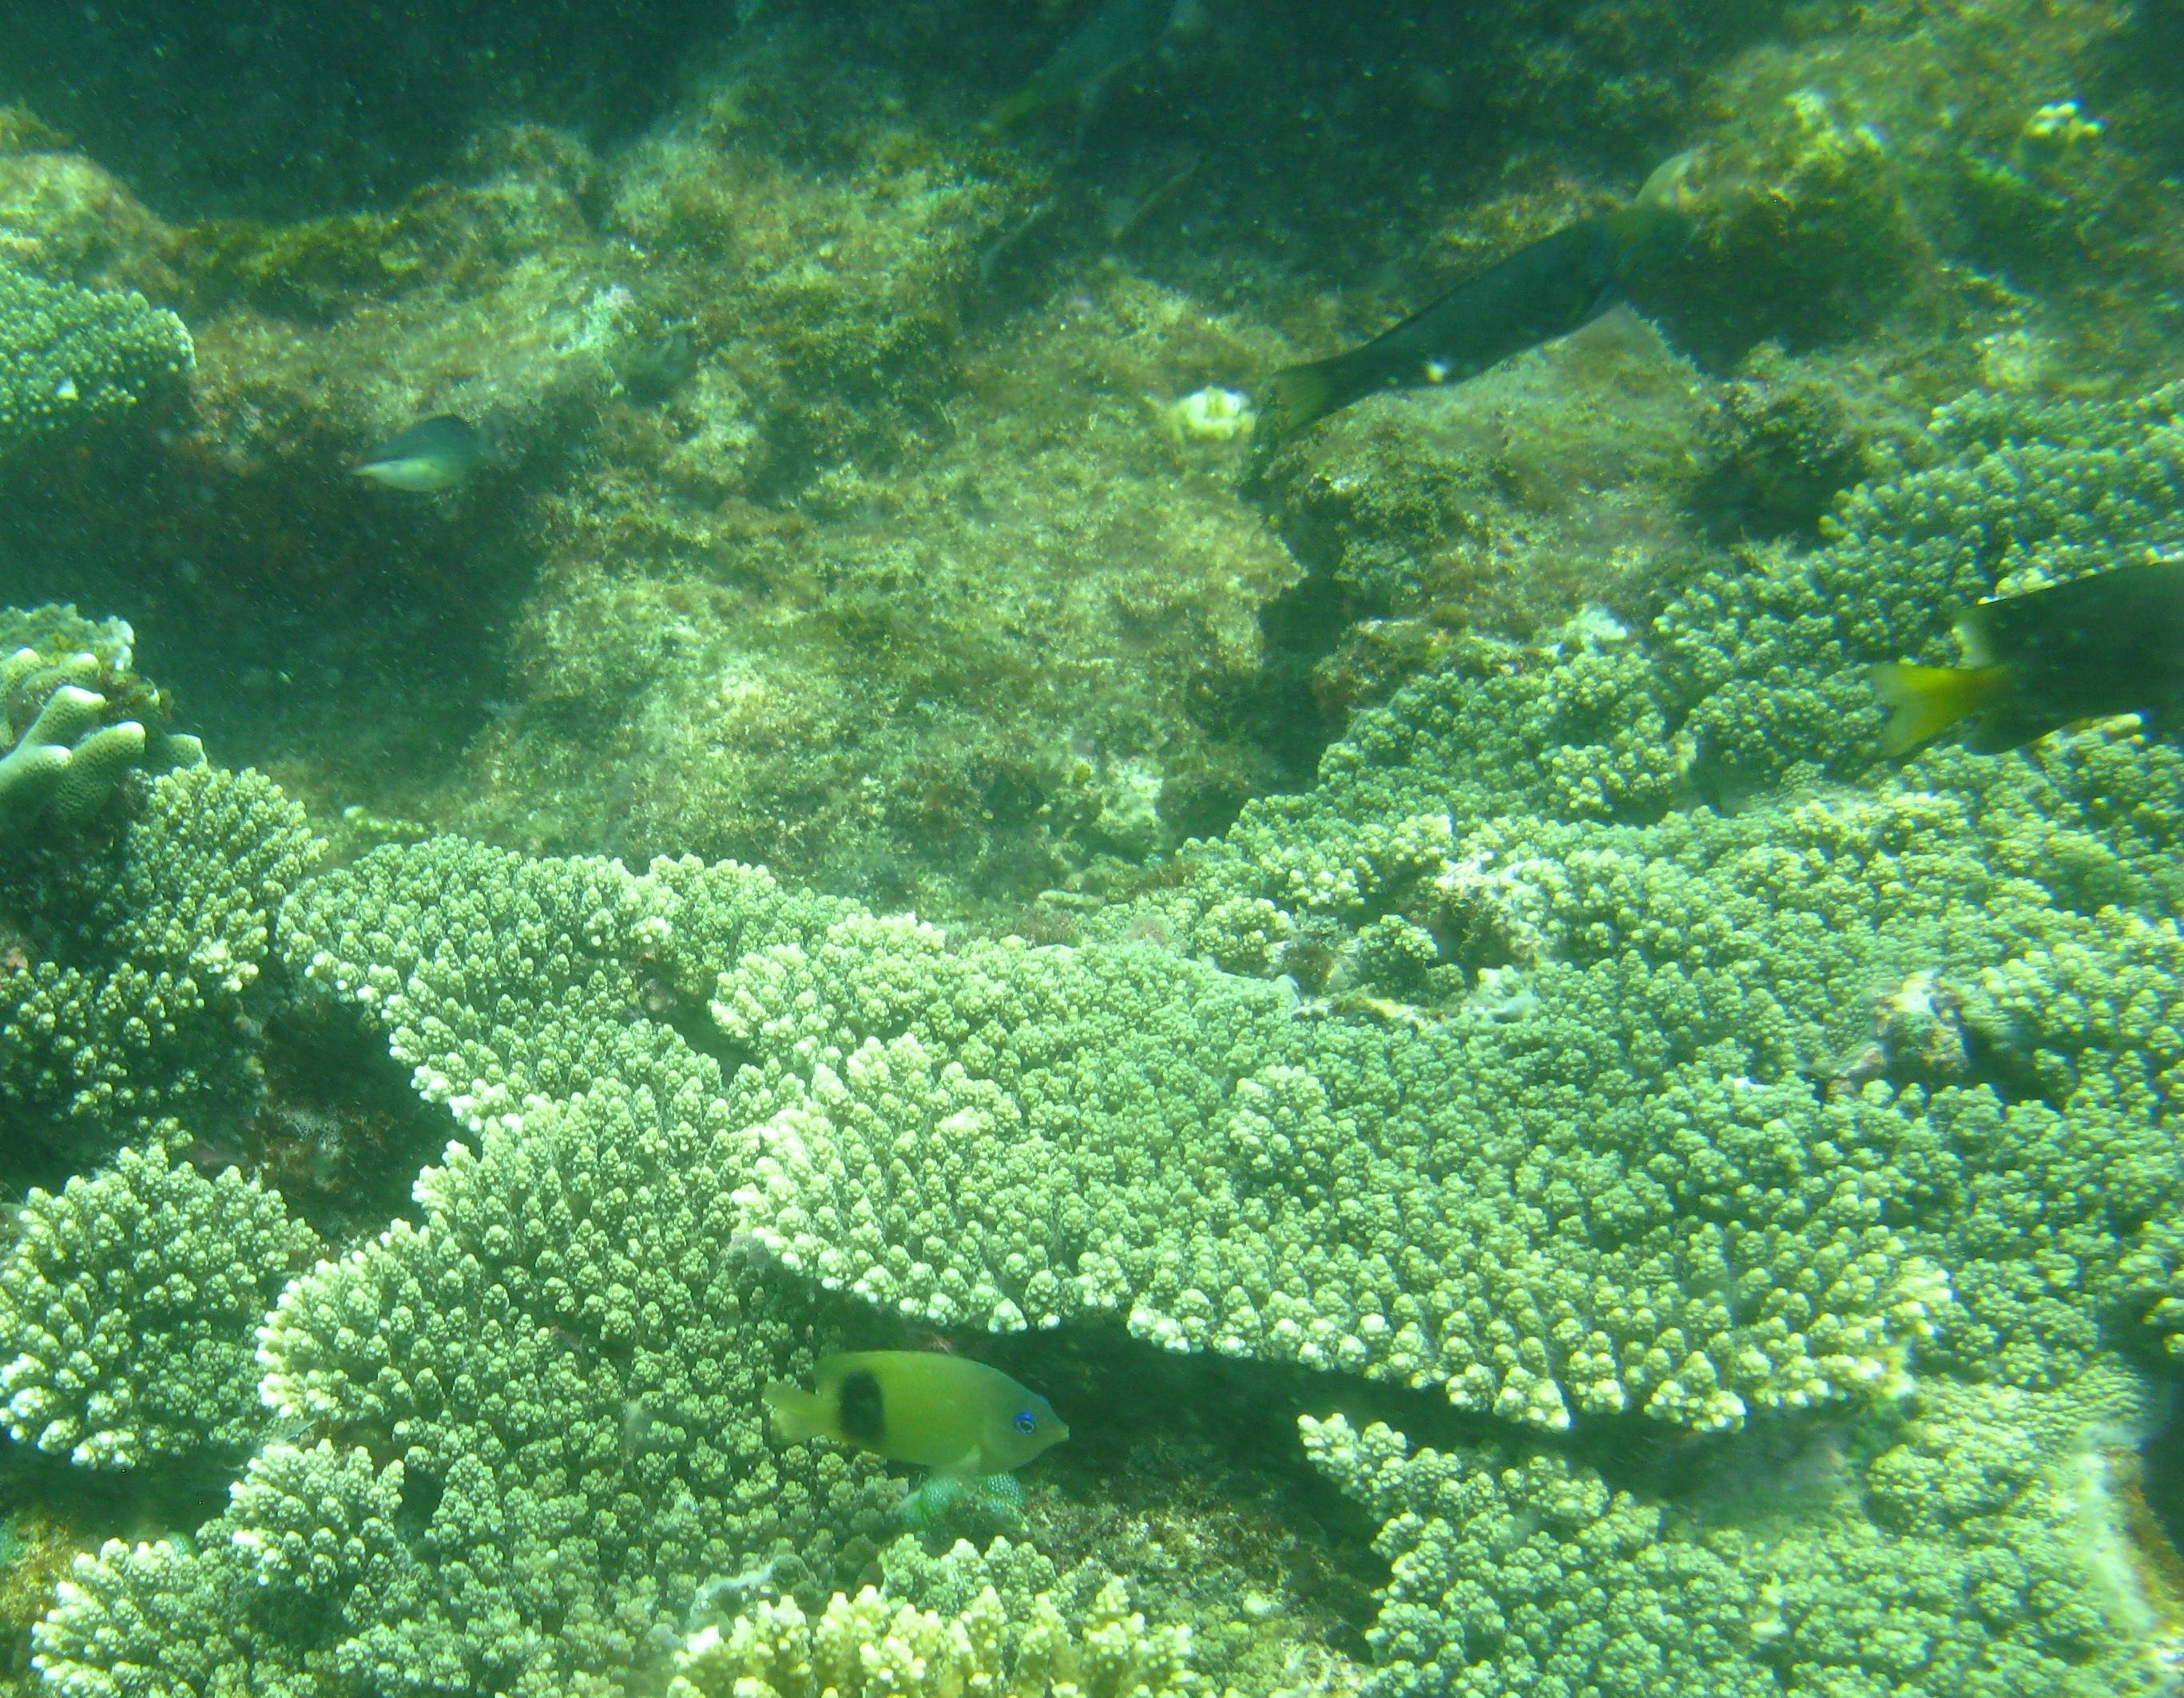Fish: (723, 1312, 1103, 1535)
